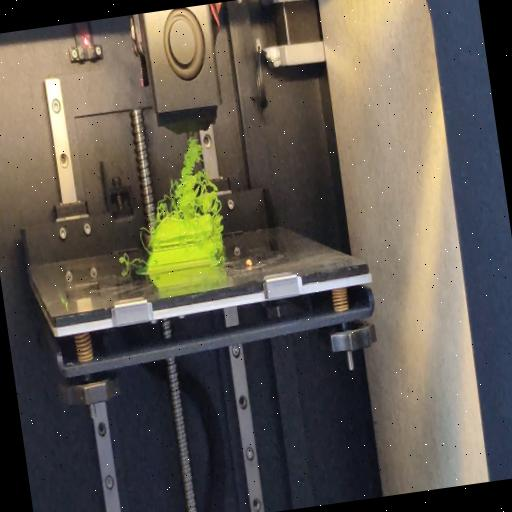spaghetti: (148, 133, 220, 224), (209, 214, 231, 266), (116, 252, 148, 272), (138, 226, 154, 252)
